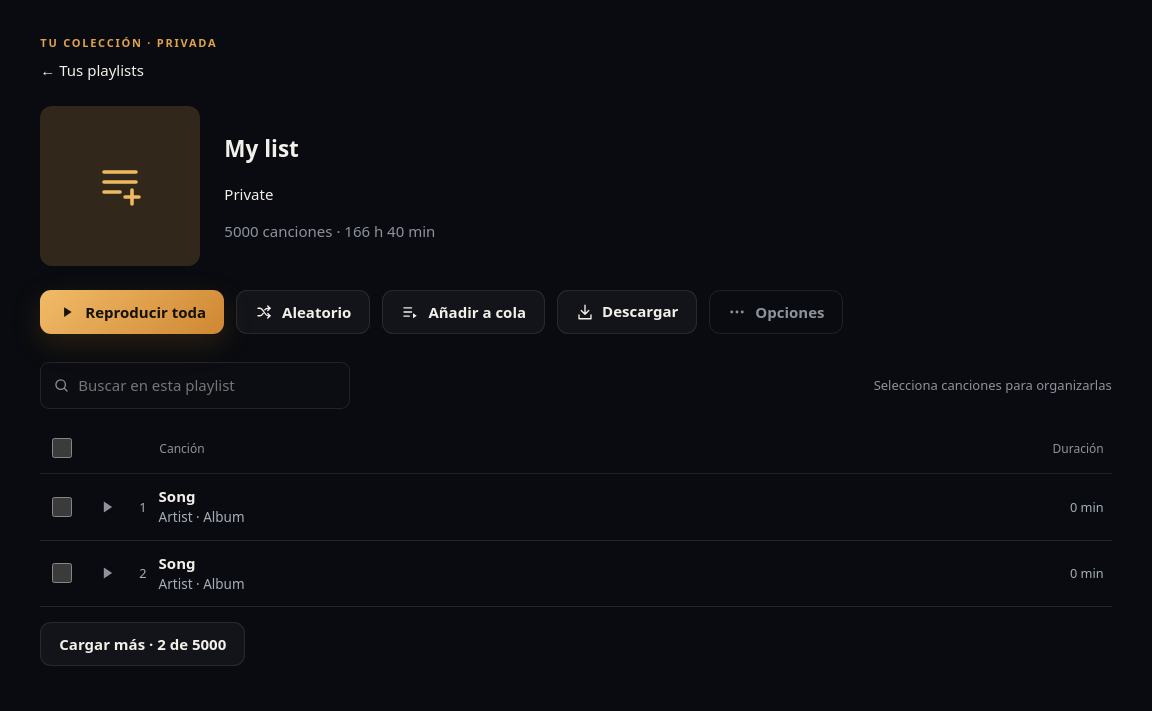
Test: personal playlists › removes selected occurrence without controlling audio; stale response is visible
Click the 1st checkbox named "Seleccionar Song" at (62, 507), box [52,497,72,517]
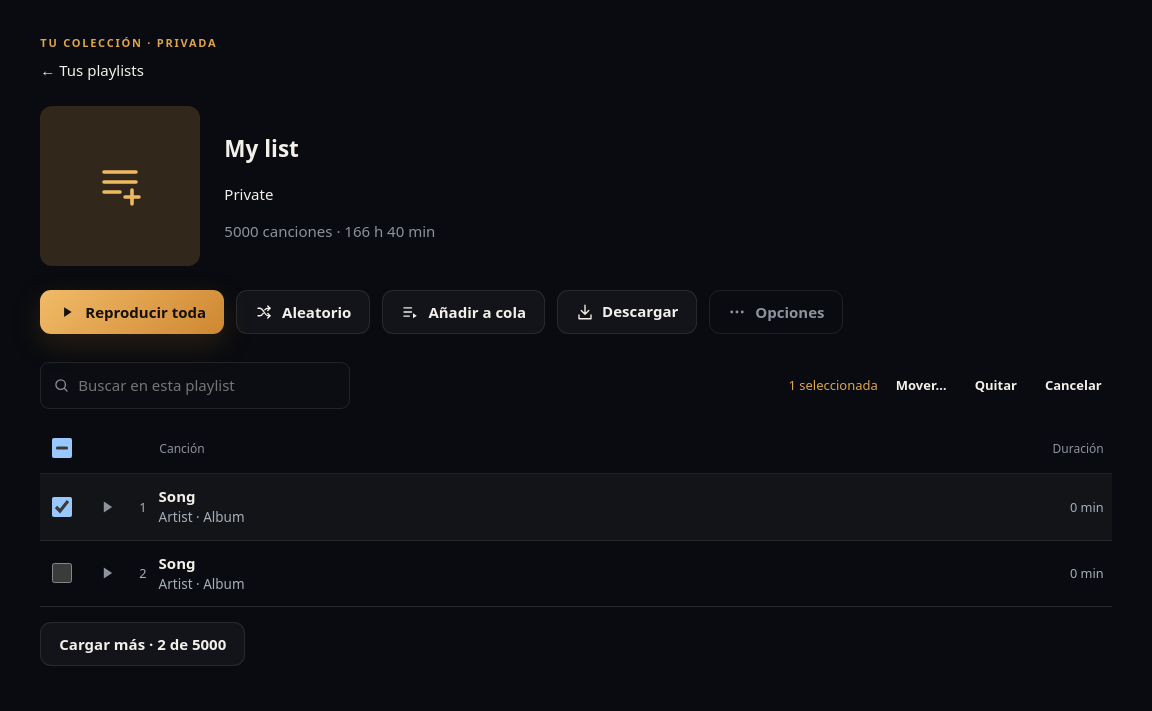
Click the button "Quitar" at (996, 386), box [965,366,1027,406]
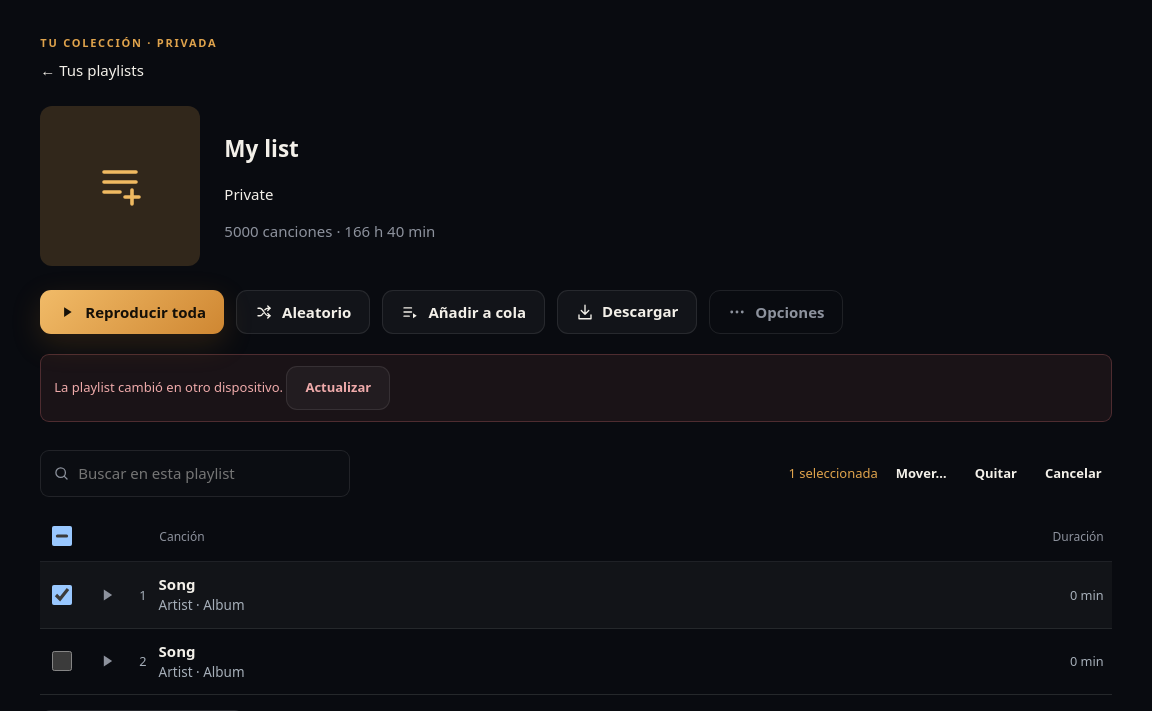
Now the number of list items is 2, box [40,562,1112,629]; [40,629,1112,695]
Now the message "La playlist cambió en otro dispositivo. Actualizar" is shown, box [40,354,1112,422]
